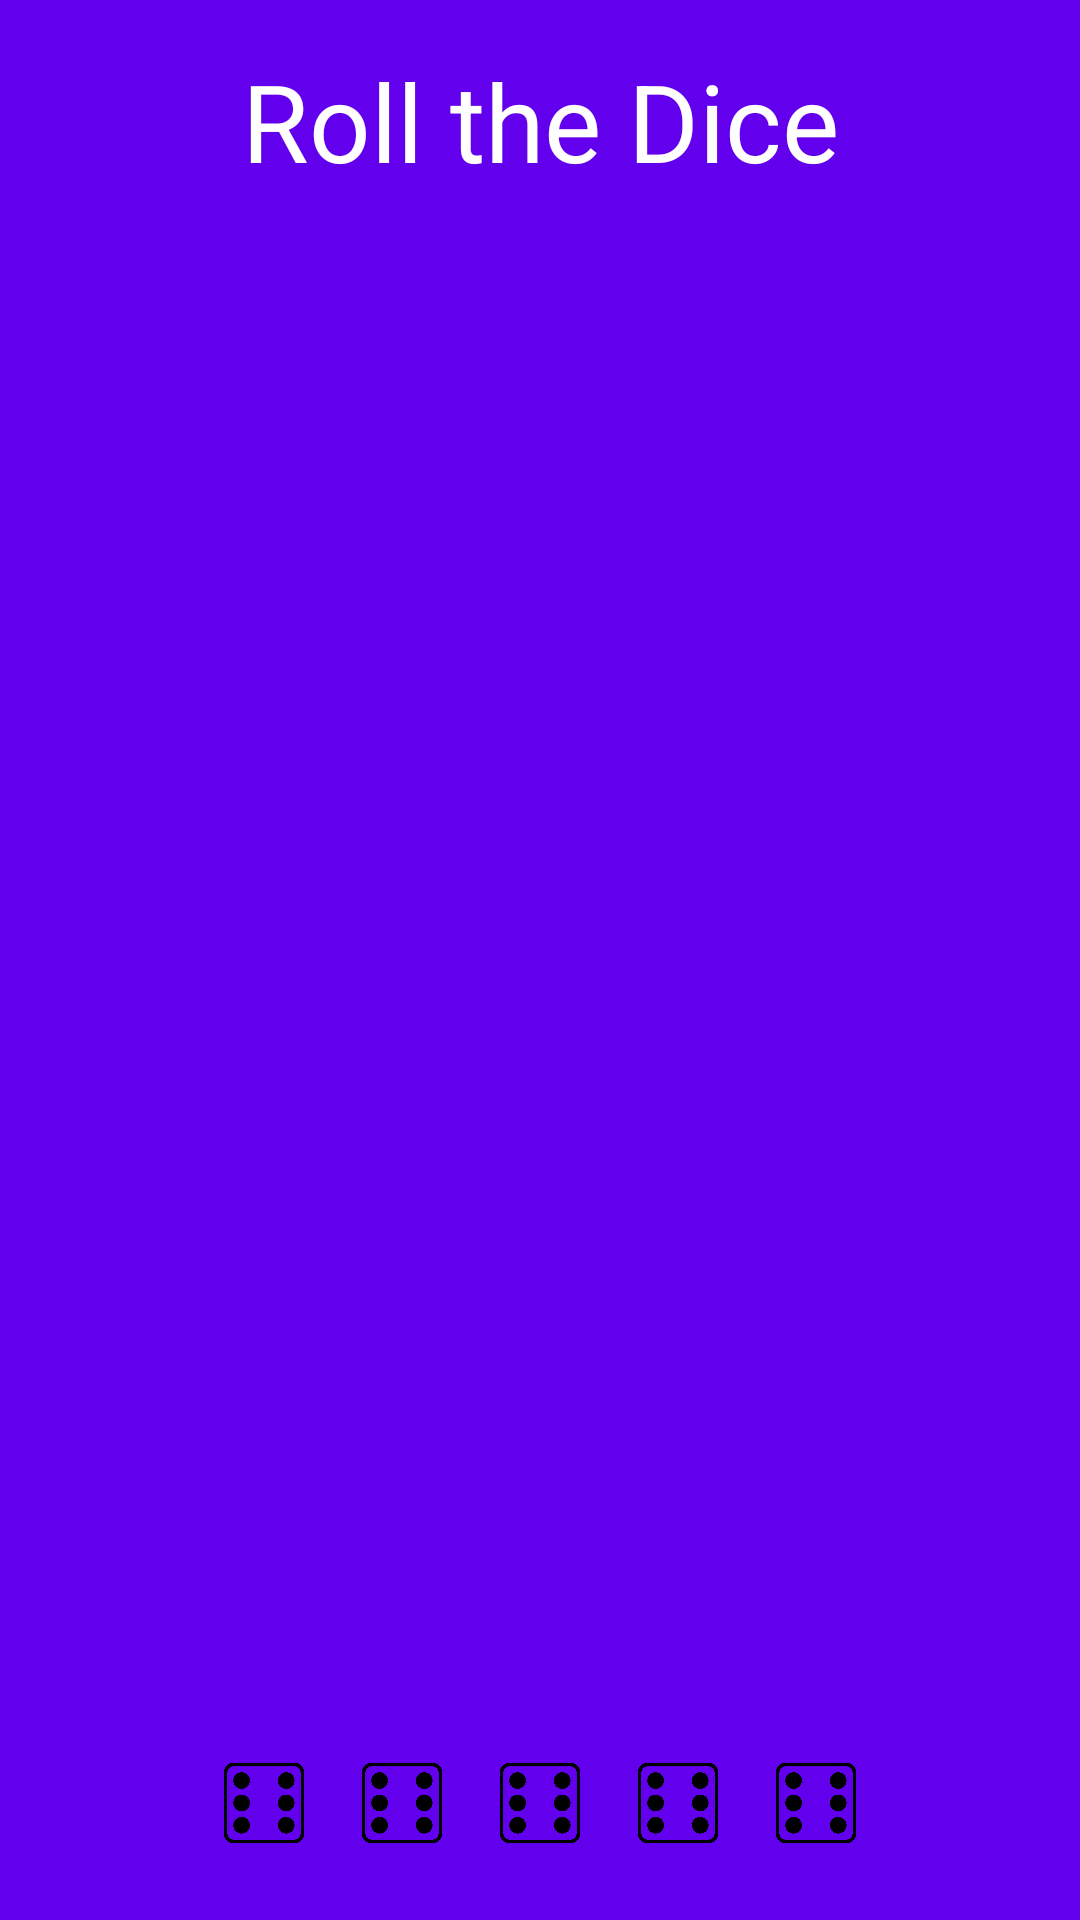

Icon bounding boxes for this 1080x1920 phone screenshot, format (x1, y1, x2, y2):
die: (224, 1763, 304, 1843), (362, 1763, 442, 1843), (500, 1763, 580, 1843), (638, 1763, 718, 1843), (776, 1763, 856, 1843)
